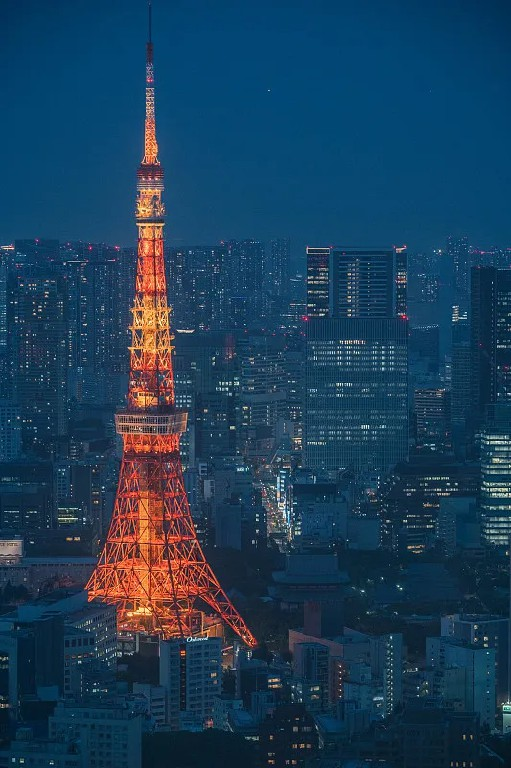Tokyo: (82, 1, 259, 651)
